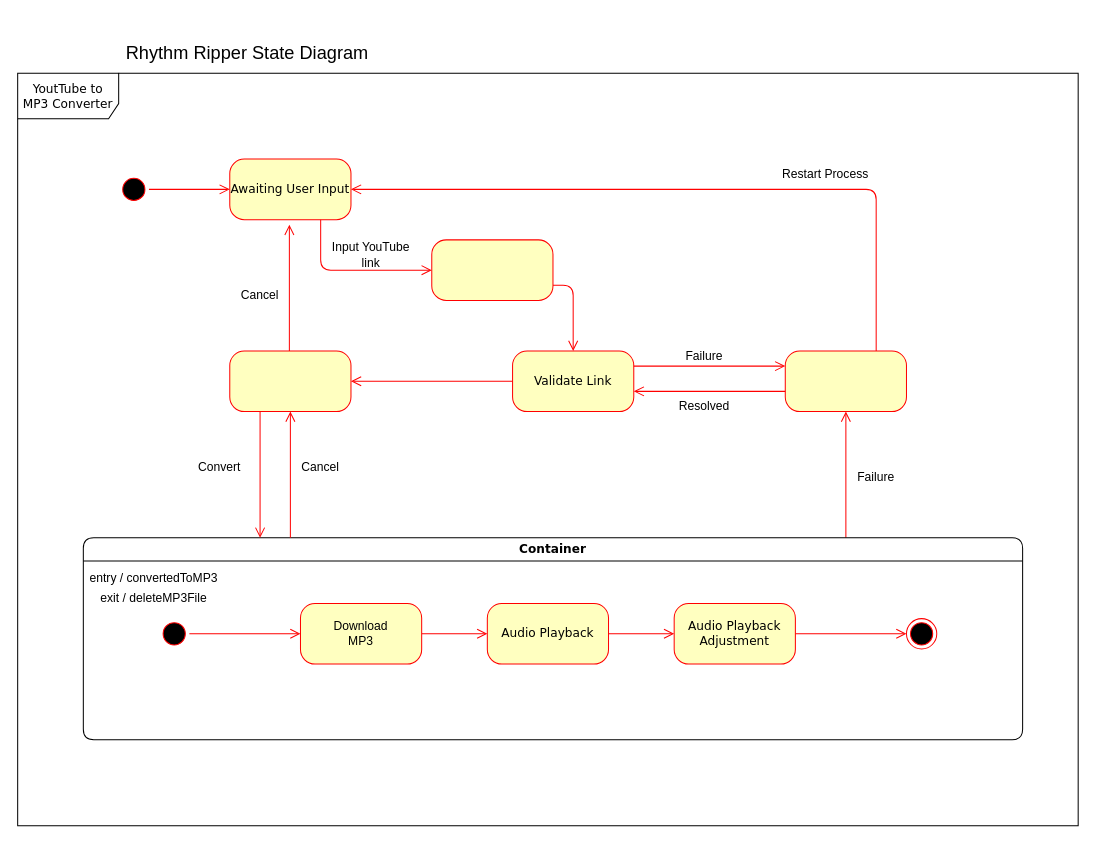
Some shapes in this 1096 by 843 pixel diagram are drawn without their labels. The centre of each missing label's shape, as x and y in pixels:
"Error" belongs at (845,381).
"Link Inputted" belongs at (492,269).
"Ready to Convert" belongs at (290,381).
